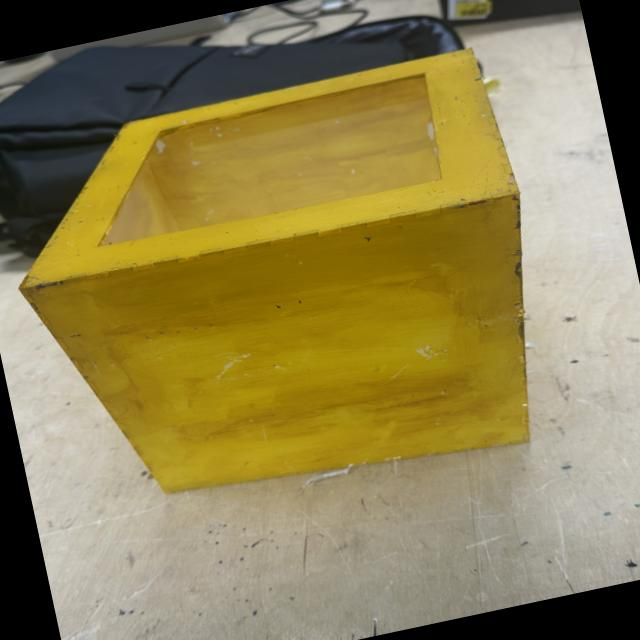yellow_bin: (0, 43, 571, 541)
